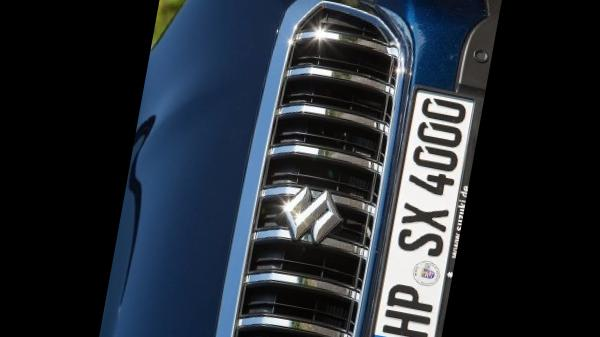plate: (355, 70, 482, 337)
